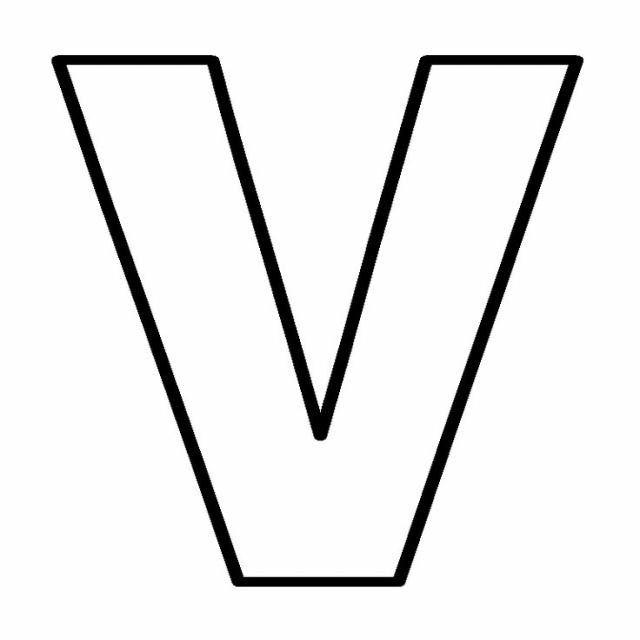V: (42, 12, 595, 626)
